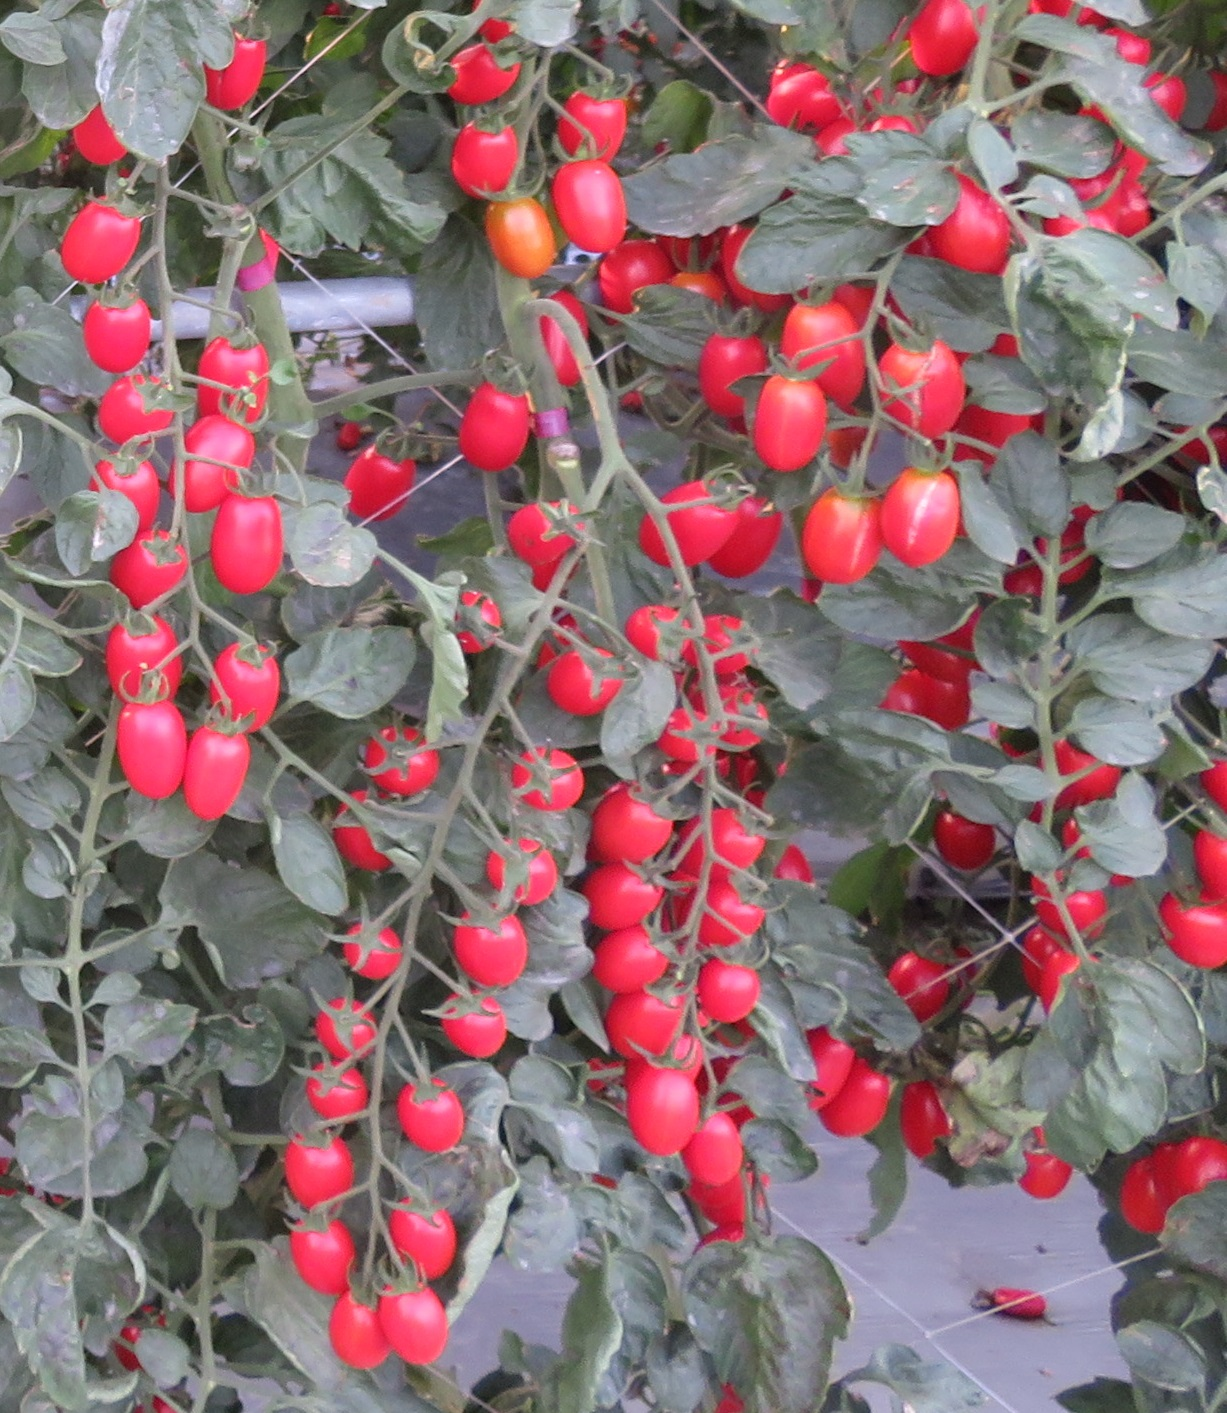orange: (483, 202, 564, 284)
red: (779, 299, 869, 409), (878, 463, 958, 578), (167, 411, 255, 503), (931, 175, 1015, 272), (588, 911, 681, 996), (586, 777, 681, 859), (212, 489, 282, 594), (117, 688, 181, 803), (677, 806, 770, 881), (183, 725, 248, 830), (555, 161, 629, 254), (447, 108, 524, 196), (56, 202, 139, 281), (644, 490, 733, 564), (374, 1284, 451, 1369), (461, 386, 535, 469), (698, 333, 769, 418), (754, 381, 822, 469), (600, 237, 675, 314), (341, 446, 415, 525), (894, 664, 975, 737), (1031, 868, 1110, 940), (629, 1065, 689, 1159), (808, 496, 870, 584), (282, 1209, 345, 1296), (279, 1122, 344, 1205), (882, 364, 954, 439), (85, 299, 151, 380), (334, 791, 398, 874), (210, 636, 276, 715), (431, 991, 520, 1050), (617, 997, 693, 1065), (193, 336, 267, 406), (397, 1078, 466, 1150), (907, 1, 972, 78), (763, 72, 842, 135), (355, 731, 436, 789), (101, 386, 179, 447), (113, 533, 183, 602), (206, 43, 270, 117), (443, 41, 520, 102), (544, 290, 590, 390), (562, 87, 626, 159), (388, 1203, 458, 1268), (591, 864, 665, 925), (903, 1075, 953, 1164), (1034, 512, 1091, 588), (1163, 1137, 1227, 1205), (1165, 902, 1227, 972), (447, 916, 529, 968), (510, 747, 591, 800), (1018, 1129, 1078, 1200), (695, 1109, 745, 1193), (547, 652, 617, 713), (893, 946, 945, 1025), (934, 806, 997, 869), (511, 505, 579, 562), (486, 836, 554, 894), (802, 1043, 848, 1123), (698, 966, 760, 1027), (108, 628, 180, 680), (69, 117, 131, 168), (335, 1293, 377, 1369), (1189, 818, 1227, 899), (1102, 1165, 1146, 1234), (338, 916, 389, 974), (848, 1086, 895, 1149), (305, 1065, 361, 1116), (1041, 947, 1084, 1010), (312, 1004, 373, 1050), (636, 602, 681, 649)
